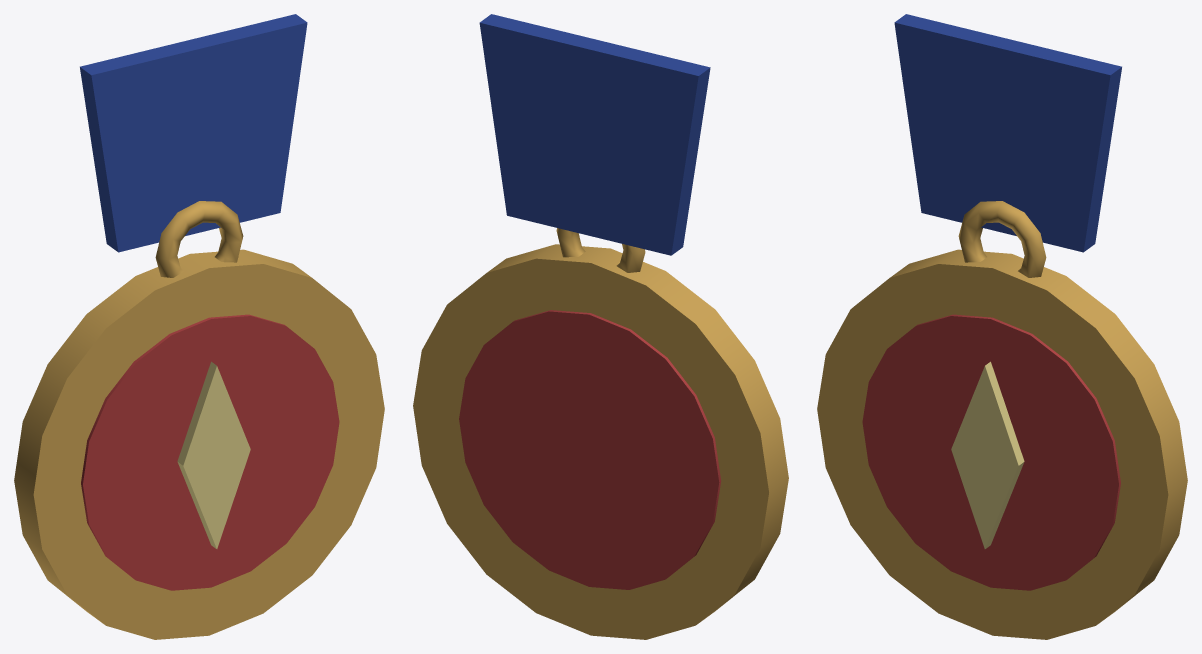
The model's file is job_medal.fbx.
The picture shows the model from 3 angles, left to right: view 1: azimuth 30°, elevation 25°; view 2: azimuth 150°, elevation 25°; view 3: azimuth 330°, elevation 25°; orthographic projection.
Visible parts, largest first — view 1: job_medal; view 2: job_medal; view 3: job_medal.
Part boxes in pixels (box(x1,y1,x2,y2)): job_medal: box(14, 14, 384, 639); job_medal: box(413, 14, 788, 639); job_medal: box(817, 14, 1187, 639).
Size of the model in its own units: 0.52 by 0.82 by 0.075.
